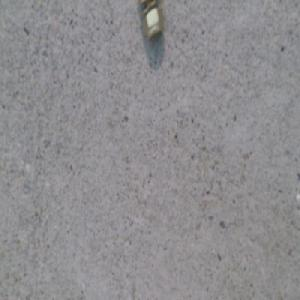BoltNutSet: (140, 2, 161, 44)
